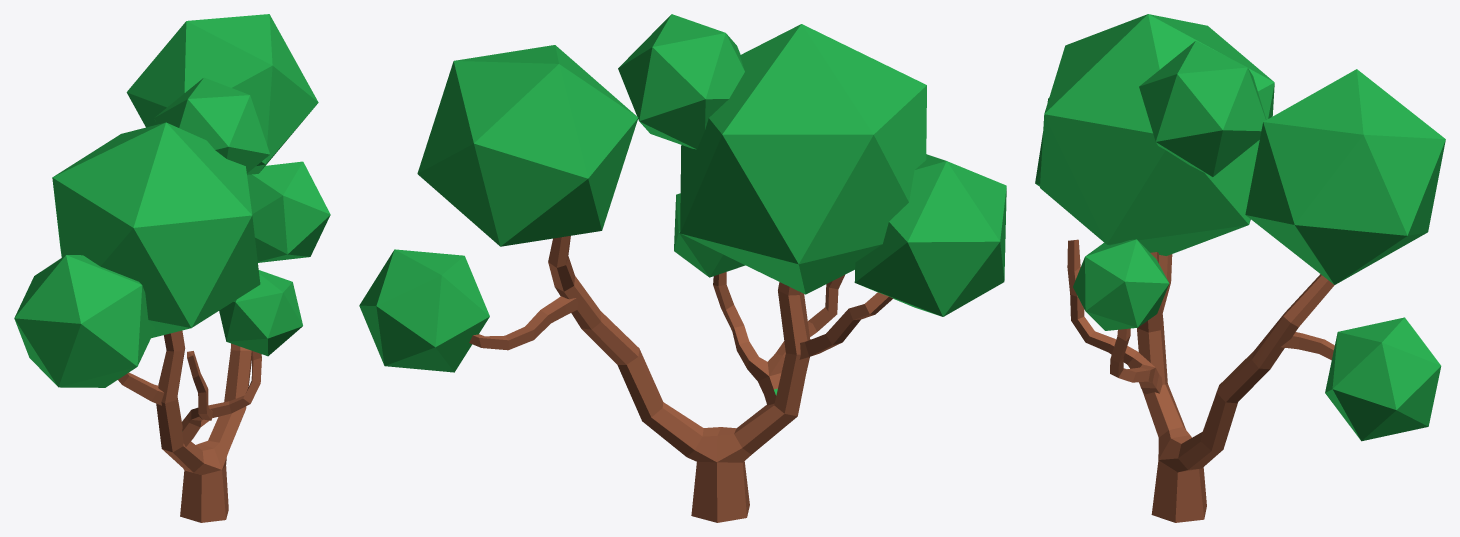
Rendered from poly_tree_draco.gltf.
3 renders of one model, left to right at view 1: azimuth 30°, elevation 25°; view 2: azimuth 150°, elevation 25°; view 3: azimuth 270°, elevation 25°, orthographic. The views are drawn at different scales.
Parts seen in each view (by area): view 1: Tree_lp_11; view 2: Tree_lp_11; view 3: Tree_lp_11.
Part boxes in pixels (bbox=[...]): Tree_lp_11: bbox=[14, 14, 330, 522]; Tree_lp_11: bbox=[359, 14, 1006, 522]; Tree_lp_11: bbox=[1035, 14, 1445, 522].
Size of the model in its own units: 27.98 by 26.55 by 20.8.
Materials: 1 (1 with a texture image).
